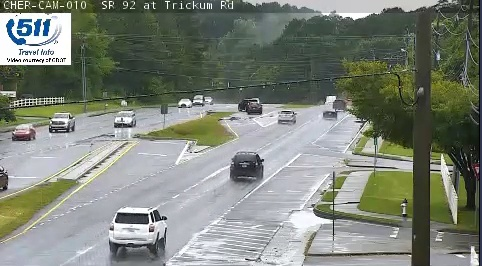car: (109, 207, 168, 247), (230, 152, 263, 177), (278, 110, 296, 122)
